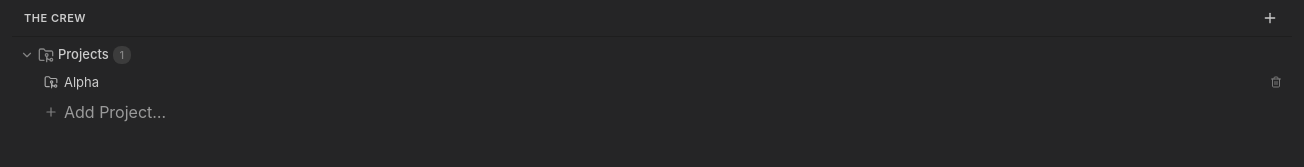
it: CrewSidebar › adds a project and selects it after reload
This screenshot has width=1304, height=167.
Expected: the text "Alpha" is shown, [64,74,99,90]
Click the button titled "Add Project". click: (1270, 18)
box: [1260,8,1280,28]
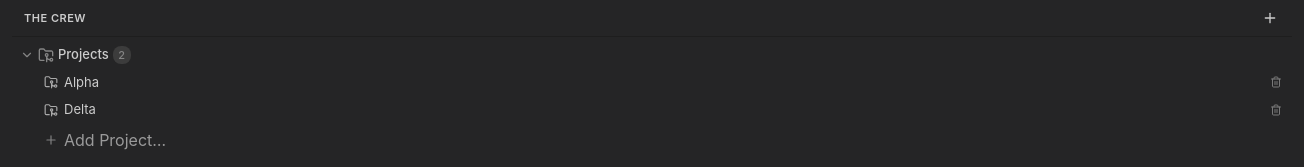
Expected: the text "Delta" is shown, [64,101,96,117]
